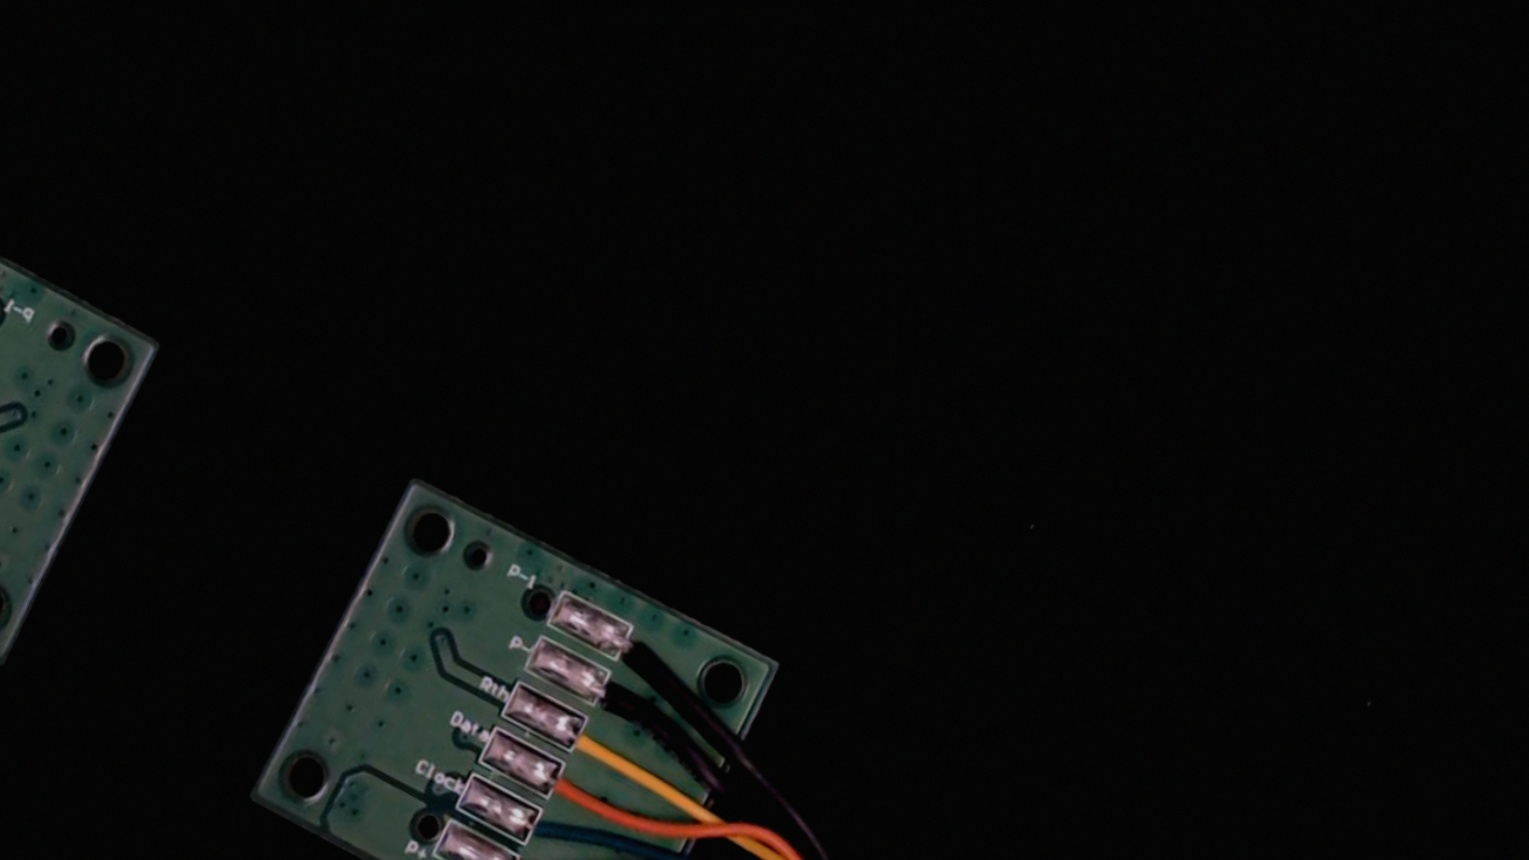Black: (565, 655, 668, 738)
Black1: (588, 612, 684, 690)
Green: (497, 792, 595, 860)
Orange: (520, 749, 621, 830)
Red: (472, 840, 571, 860)
Yellow: (541, 701, 646, 785)
